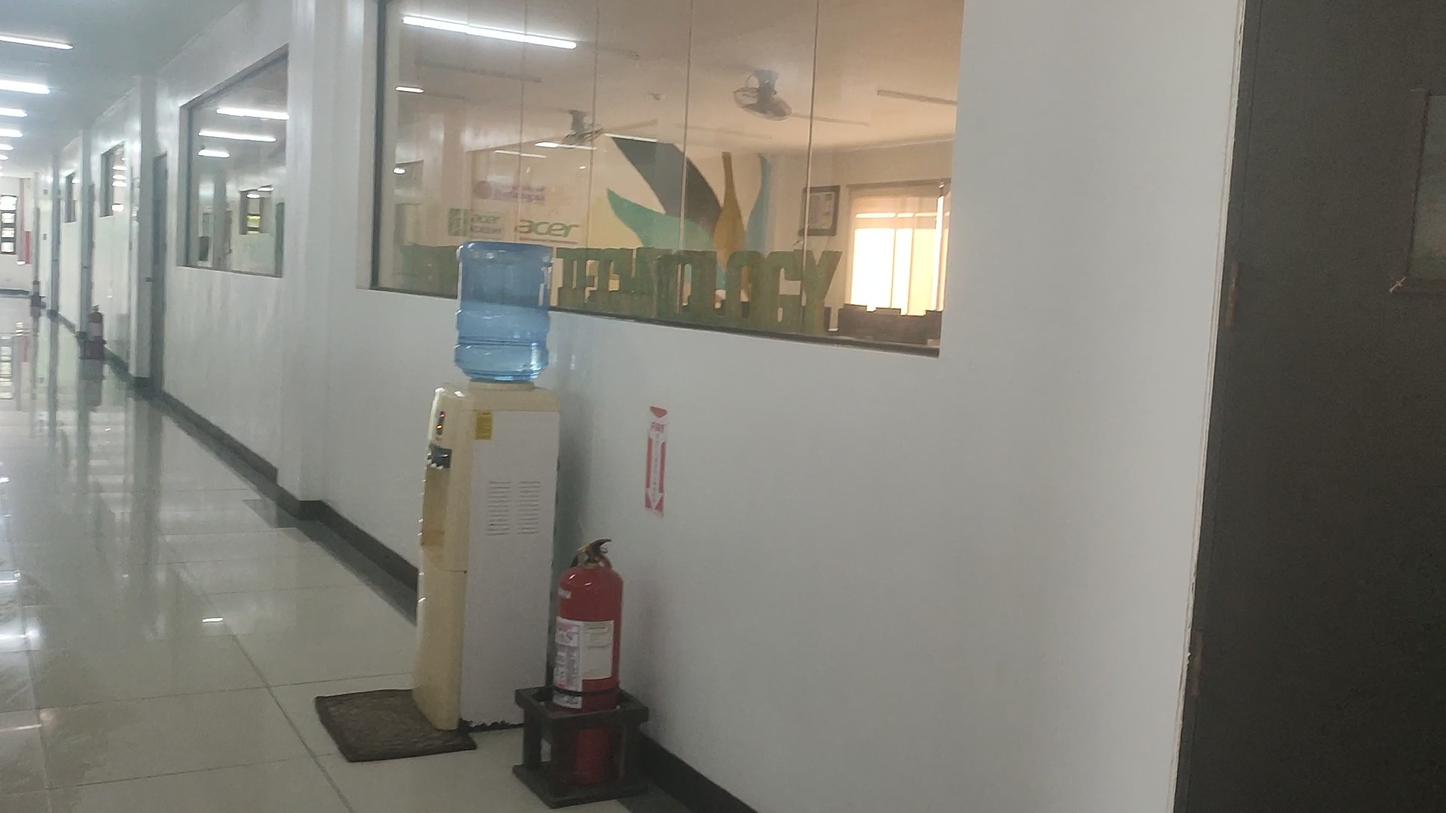door: (1178, 0, 1446, 813)
